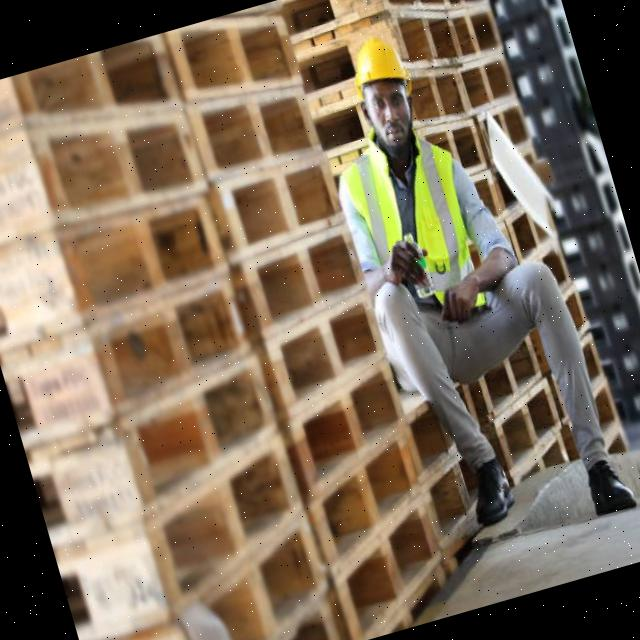Wooden-Pallets: (303, 419, 427, 577), (285, 345, 407, 491), (258, 291, 388, 428), (334, 495, 445, 640), (208, 150, 341, 264), (240, 219, 363, 339), (188, 79, 330, 182)
